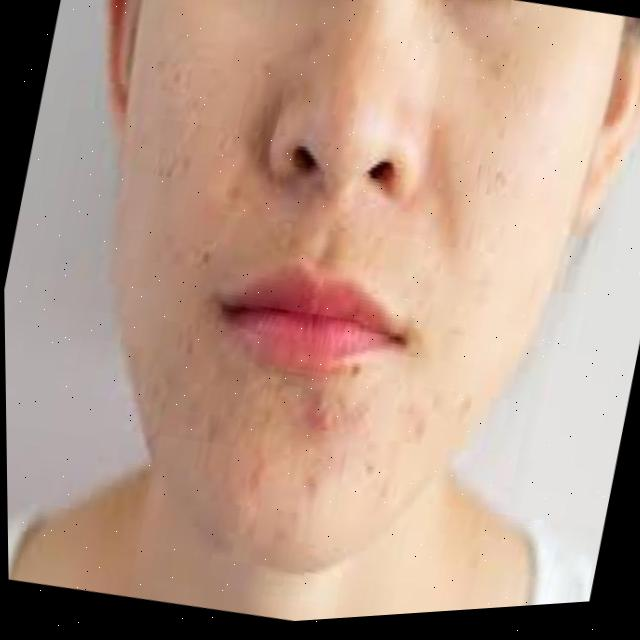Acne: (259, 368, 383, 455)
